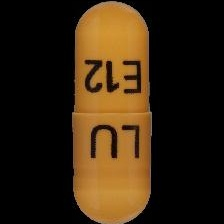68180-756: (0, 0, 224, 224)
